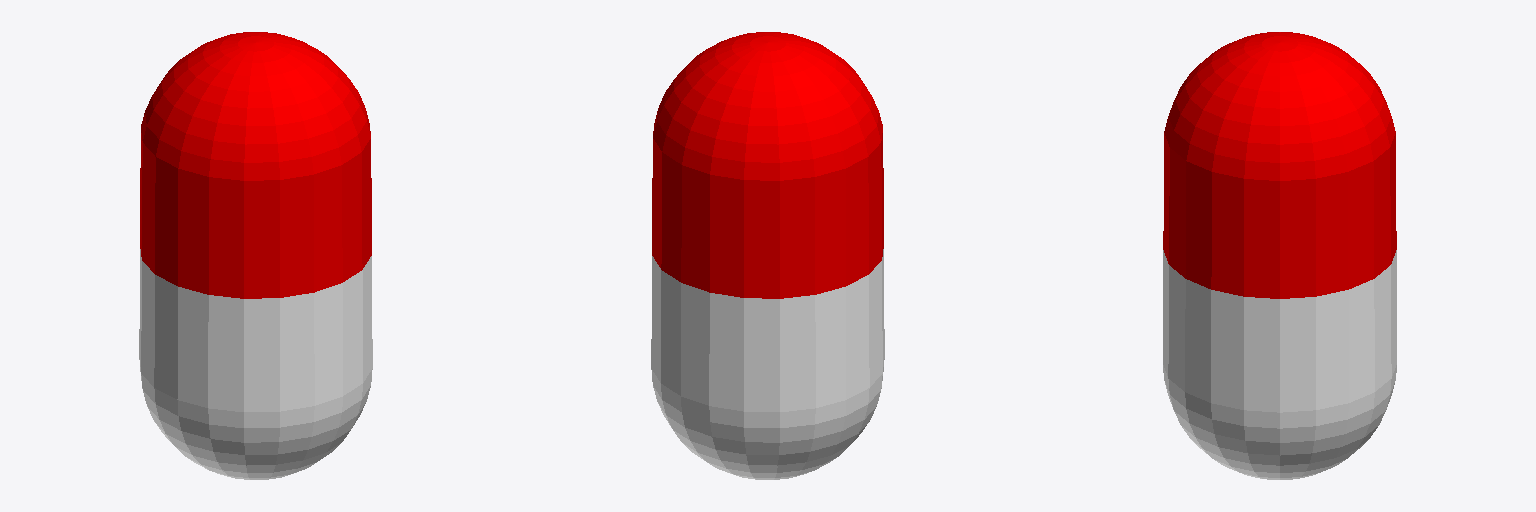
Rendered from pildora.obj.
3 views of the same model, side by side, from view 1: azimuth 30°, elevation 25°; view 2: azimuth 150°, elevation 25°; view 3: azimuth 270°, elevation 25° (orthographic).
Parts seen in each view (by area): view 1: pSphere1; view 2: pSphere1; view 3: pSphere1.
Part boxes in pixels (bbox=[...]): pSphere1: bbox=[139, 32, 372, 479]; pSphere1: bbox=[651, 32, 884, 479]; pSphere1: bbox=[1163, 32, 1396, 479].
Bounding box in the file's own units: 2 × 4.01 × 2.